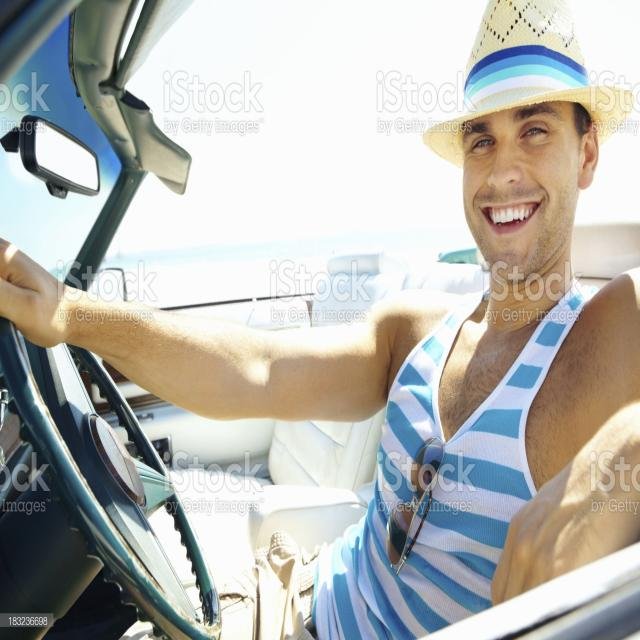hat: (424, 0, 633, 278)
